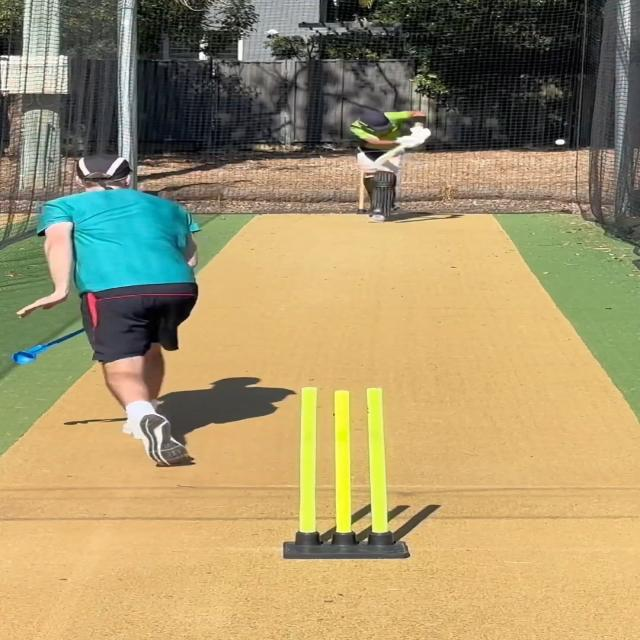ball: (553, 138, 568, 146)
stump: (285, 385, 408, 560)
